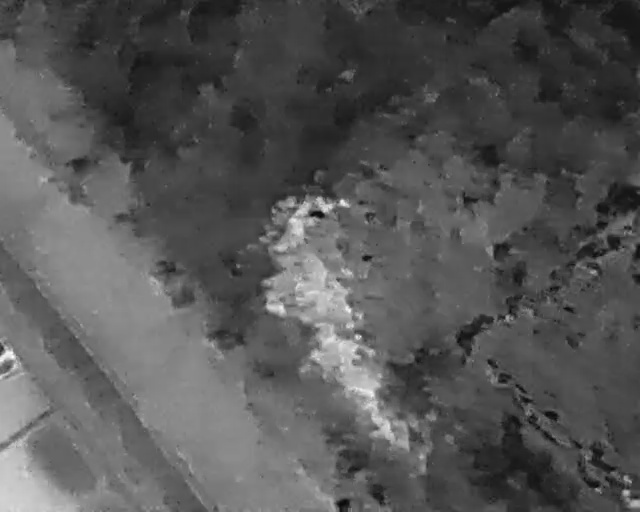Car: (0, 336, 23, 382)
